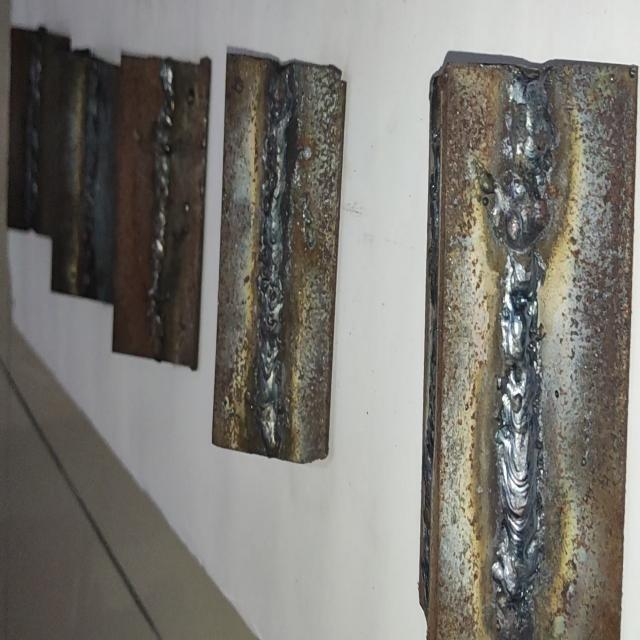Defect: (497, 219, 547, 392), (490, 561, 542, 640)
Welding Line: (499, 73, 546, 630), (258, 64, 292, 454), (150, 64, 172, 357)
Workpiece: (434, 36, 640, 640), (208, 42, 348, 467), (109, 41, 212, 378), (47, 54, 121, 298), (4, 29, 71, 238)
